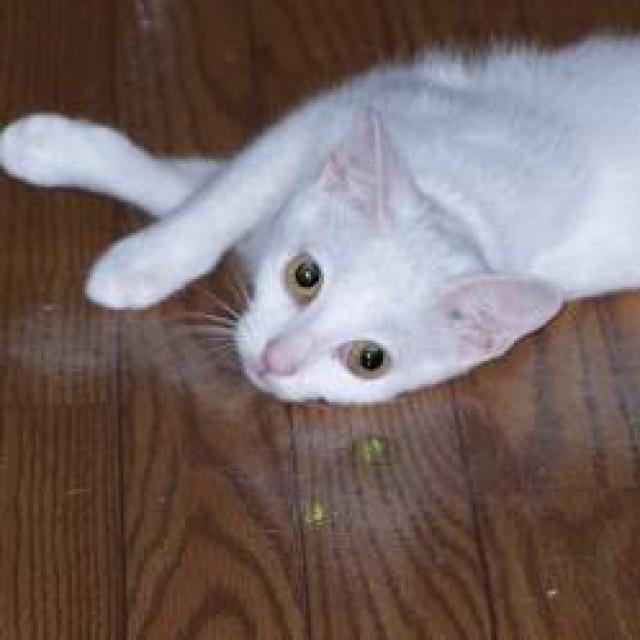cat-eye-normal: (328, 324, 400, 392), (274, 240, 330, 311)
